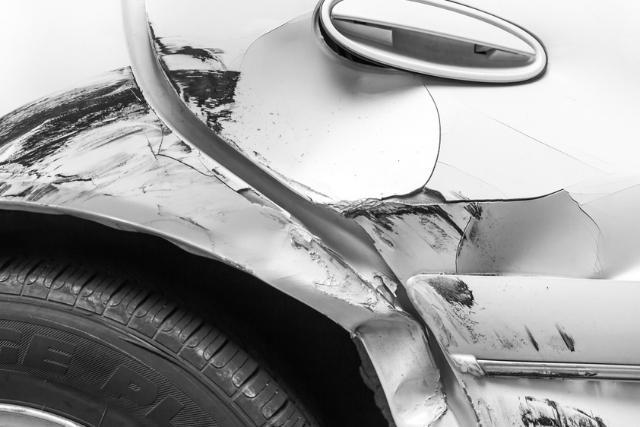Door: (0, 1, 640, 426)
